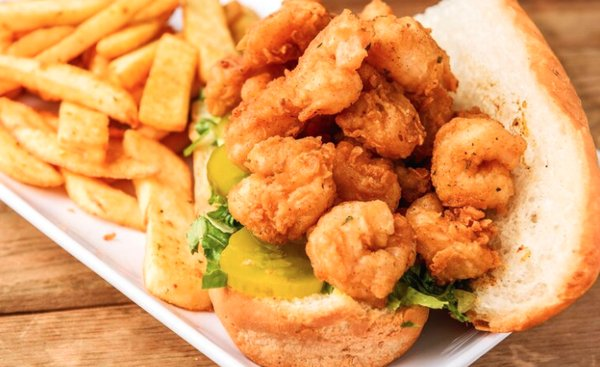curry: (0, 0, 597, 367)
